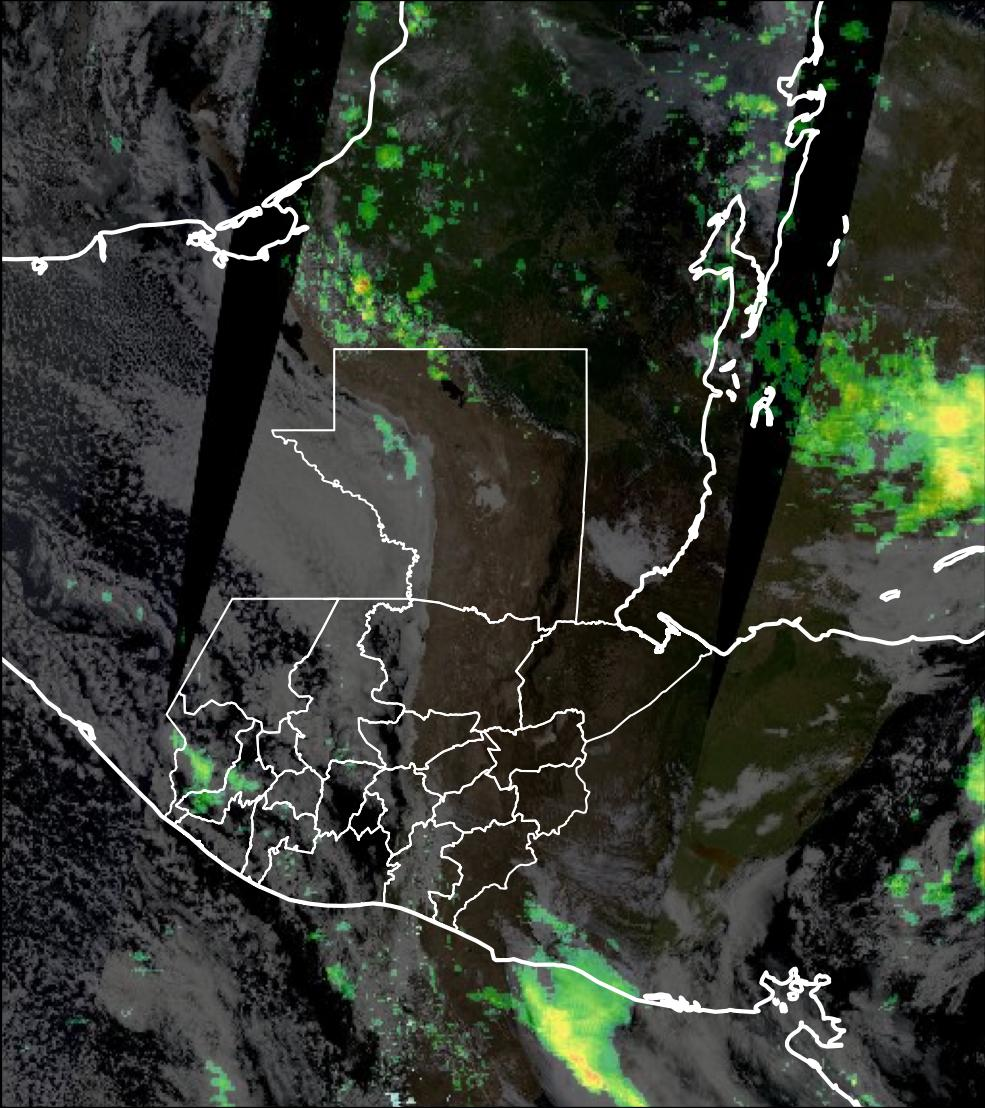precipitacion: (536, 1005, 620, 1100)
